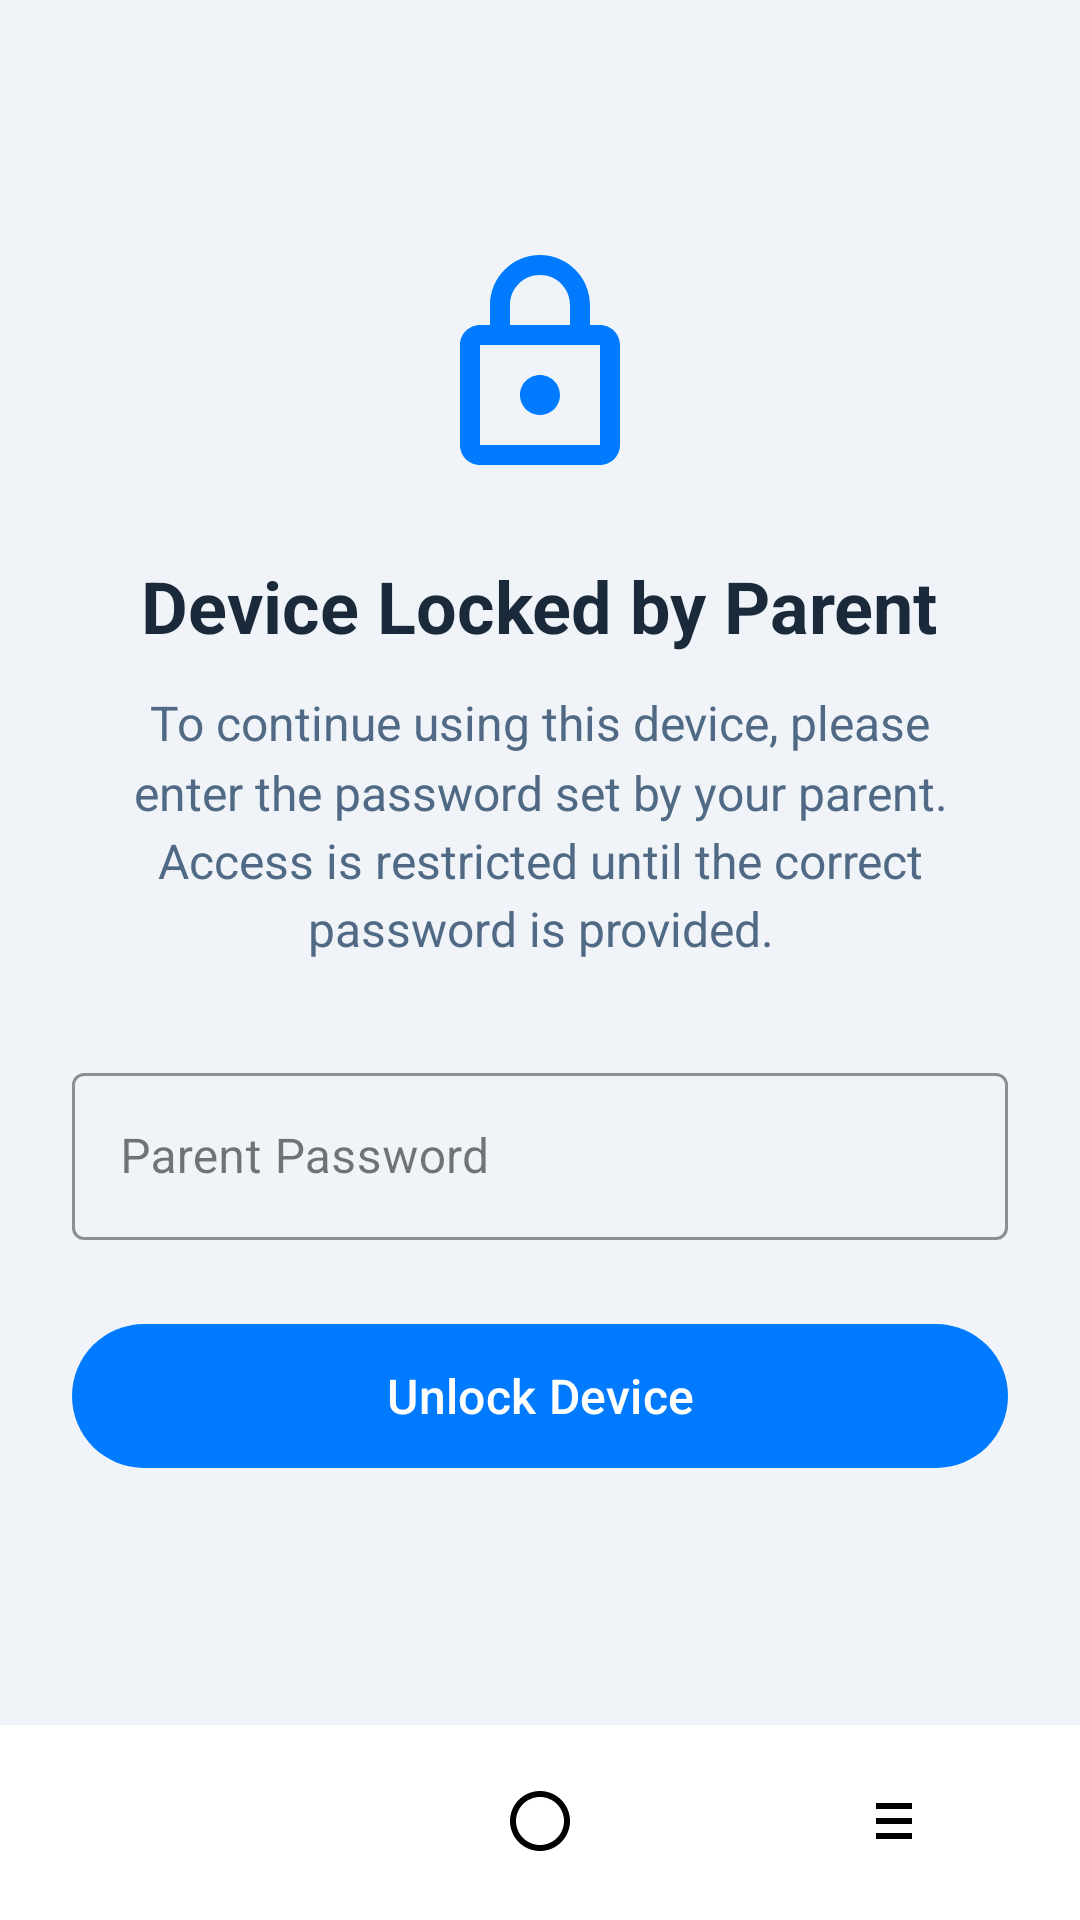

Where to tap for icons on this 1080px x 1920px app screen, as point (x, y):
Home: point (540, 1821)
